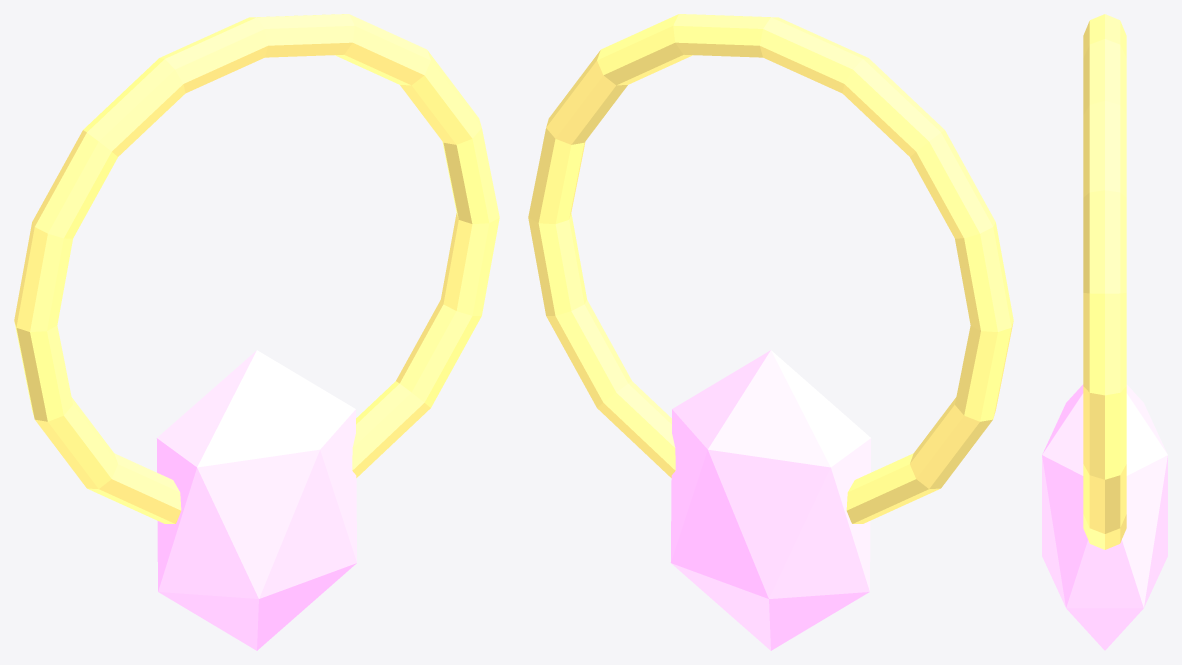
The model's file is amulet.glb.
3 views of the same model, side by side, from view 1: azimuth 30°, elevation 25°; view 2: azimuth 150°, elevation 25°; view 3: azimuth 270°, elevation 25° (orthographic). The views are drawn at different scales.
Visible parts, largest first — view 1: AmuletChain; view 2: AmuletChain; view 3: AmuletChain.
Part boxes in pixels (box(x1,y1,x2,y2)): AmuletChain: box(14, 14, 499, 650); AmuletChain: box(528, 14, 1013, 650); AmuletChain: box(1042, 14, 1167, 650).
Bounding box in the file's own units: 0.87 × 1.09 × 0.2042.
